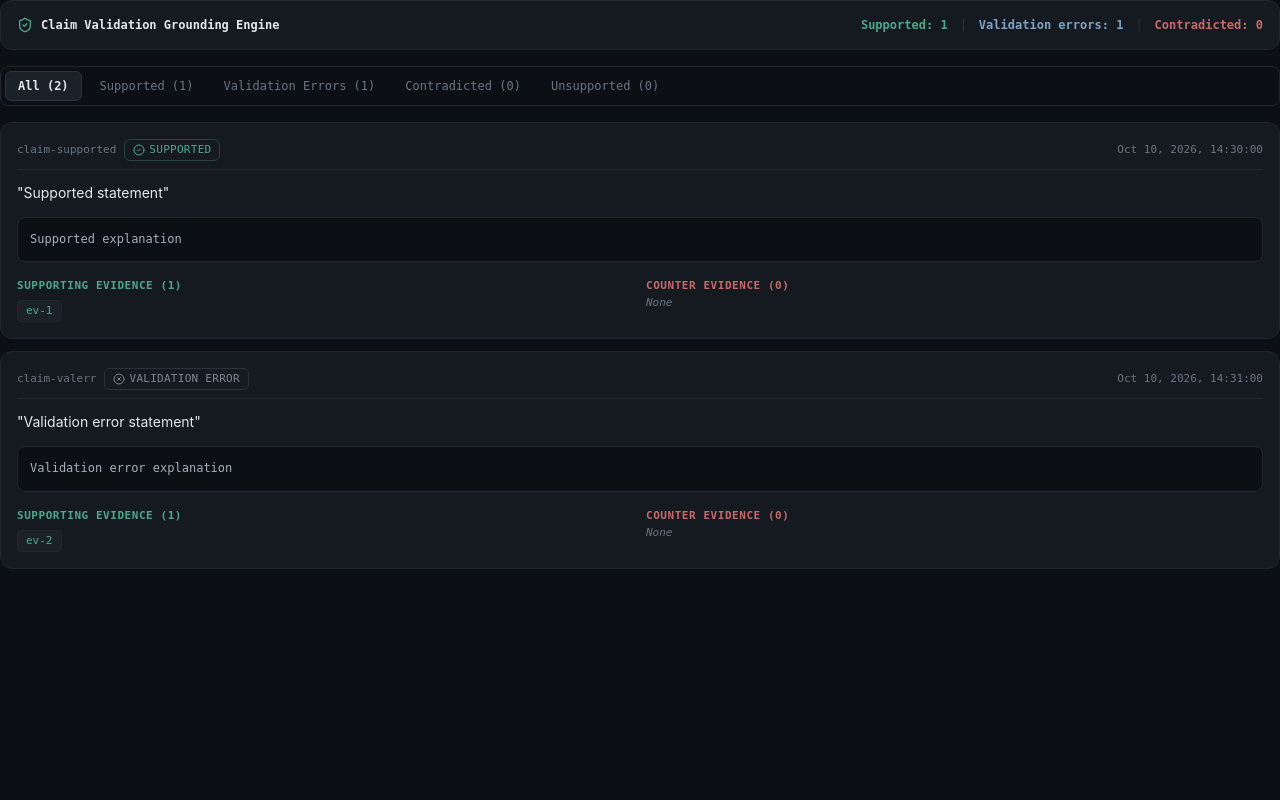
ClaimValidationTable › filters claims by status when status filter button is clicked
Expected: the text "\"Supported statement\"" is shown, left=17, top=184, right=169, bottom=201
Expected: the text "\"Validation error statement\"" is shown, left=17, top=413, right=201, bottom=430
# Click Validation Errors filter
Click the button "Validation Errors (1)": (299, 86) left=212, top=72, right=387, bottom=100
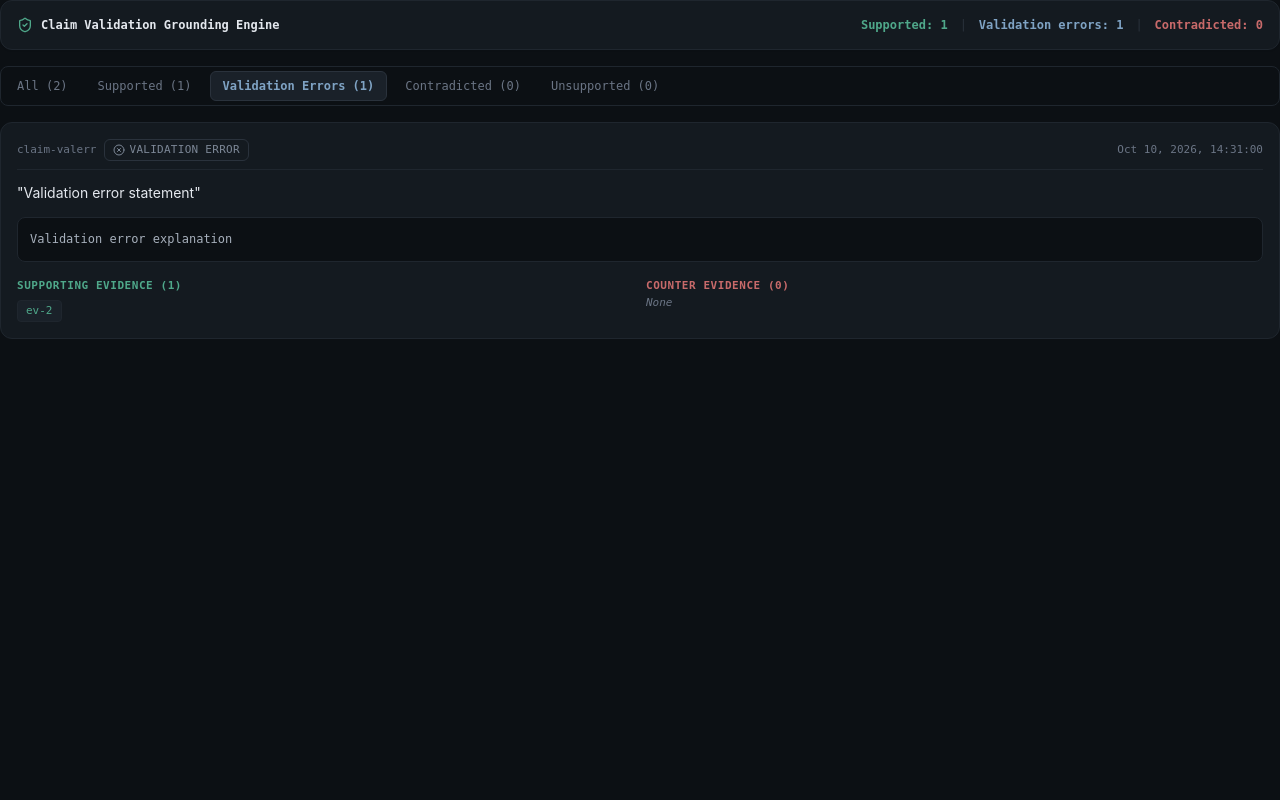
Expected: the text "\"Validation error statement\"" is shown, left=17, top=184, right=201, bottom=201
Expected: the text "\"Supported statement\"" is gone
# Click Supported filter
Click the button "Supported (1)": (145, 86) left=86, top=72, right=204, bottom=100
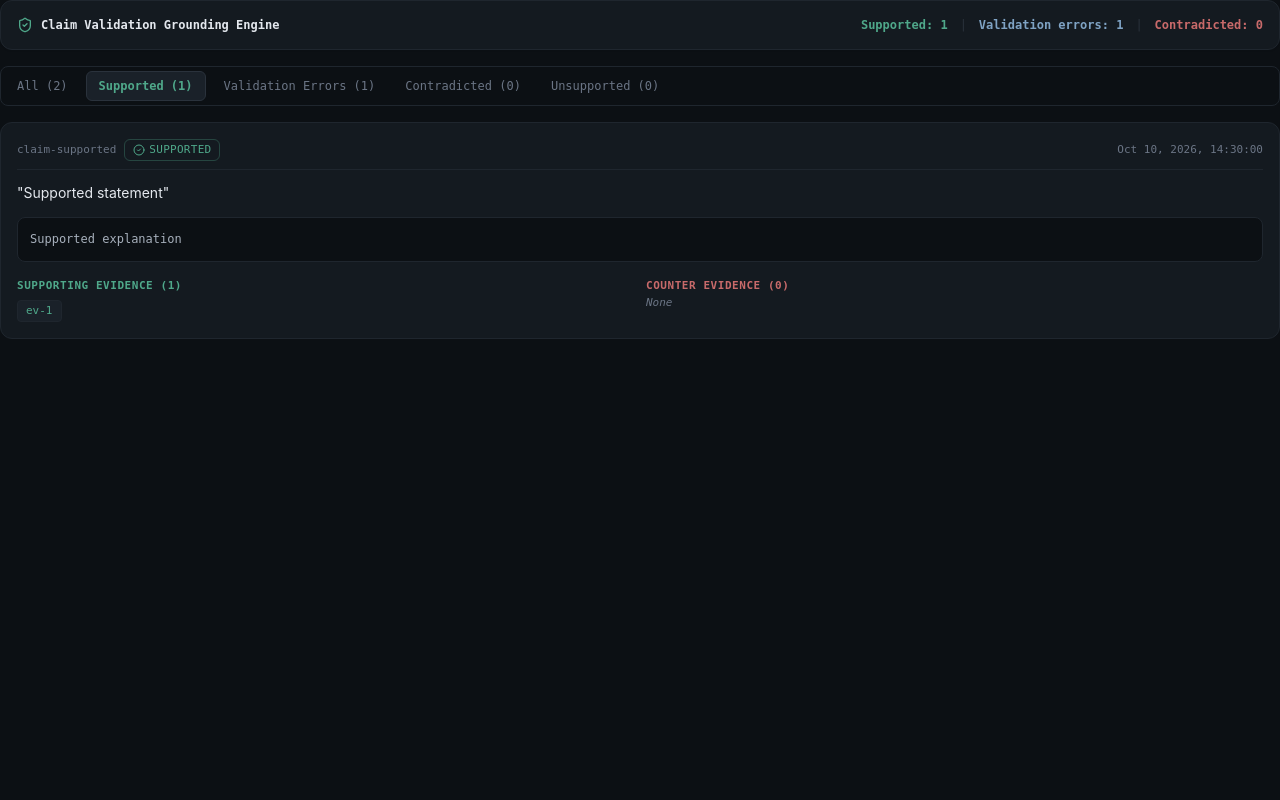
Expected: the text "\"Supported statement\"" is shown, left=17, top=184, right=169, bottom=201
Expected: the text "\"Validation error statement\"" is gone
# Click All filter
Click the button "All (2)": (42, 86) left=5, top=72, right=80, bottom=100
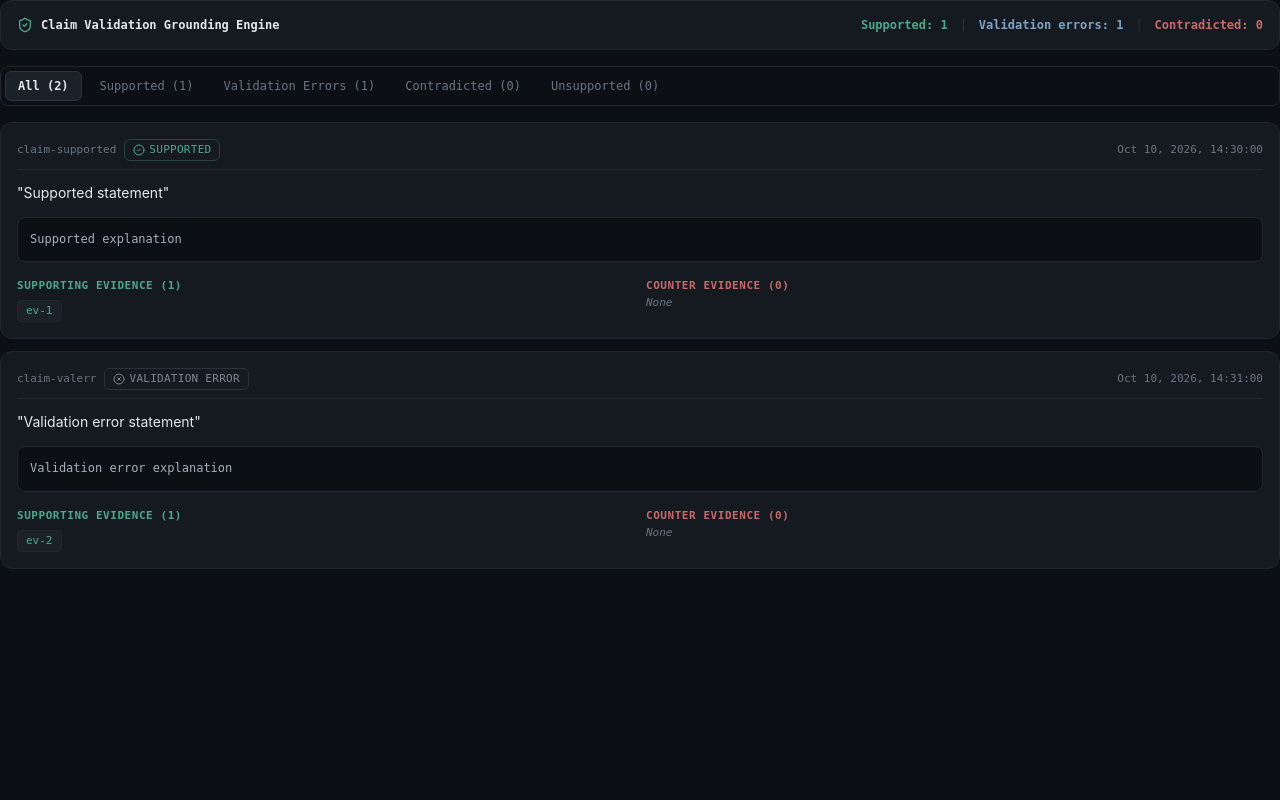
Expected: the text "\"Supported statement\"" is shown, left=17, top=184, right=169, bottom=201
Expected: the text "\"Validation error statement\"" is shown, left=17, top=413, right=201, bottom=430
